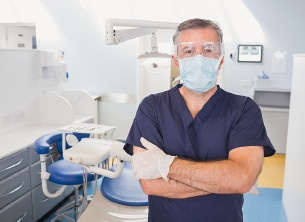Mask: (172, 40, 222, 90)
